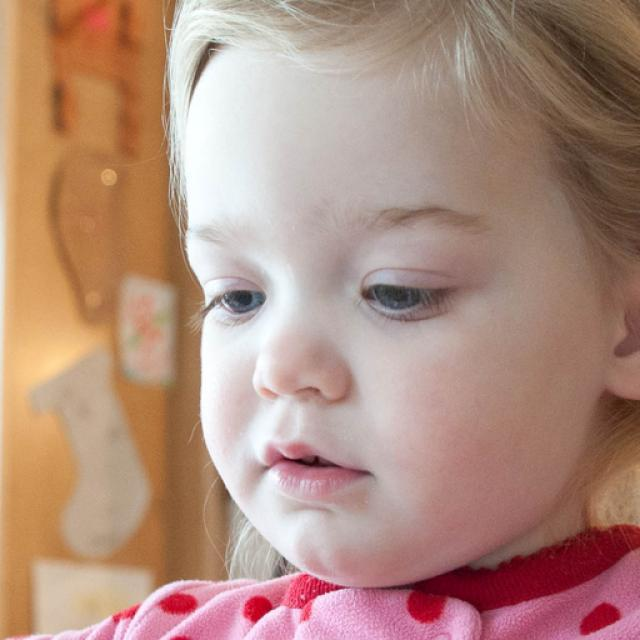neutral: (182, 36, 606, 575)
